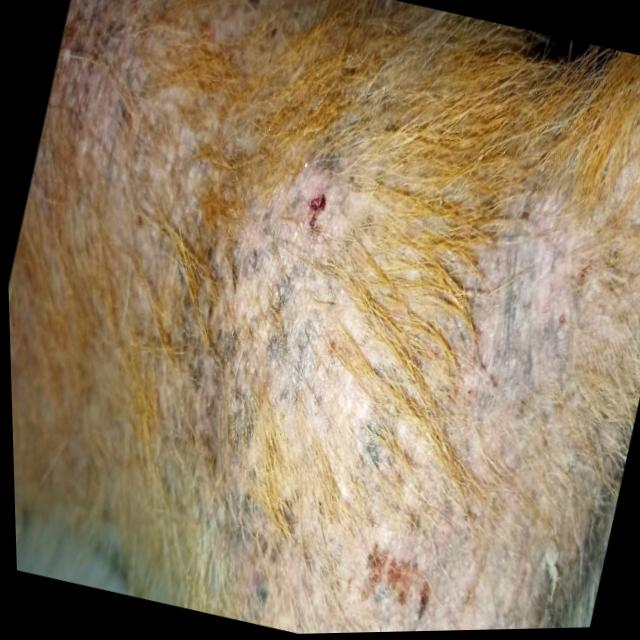demodicosis: (179, 123, 384, 399), (29, 0, 231, 273), (452, 173, 617, 405), (320, 458, 517, 635)
